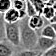cell: (5, 8, 24, 22), (23, 17, 39, 32), (41, 4, 56, 15)
